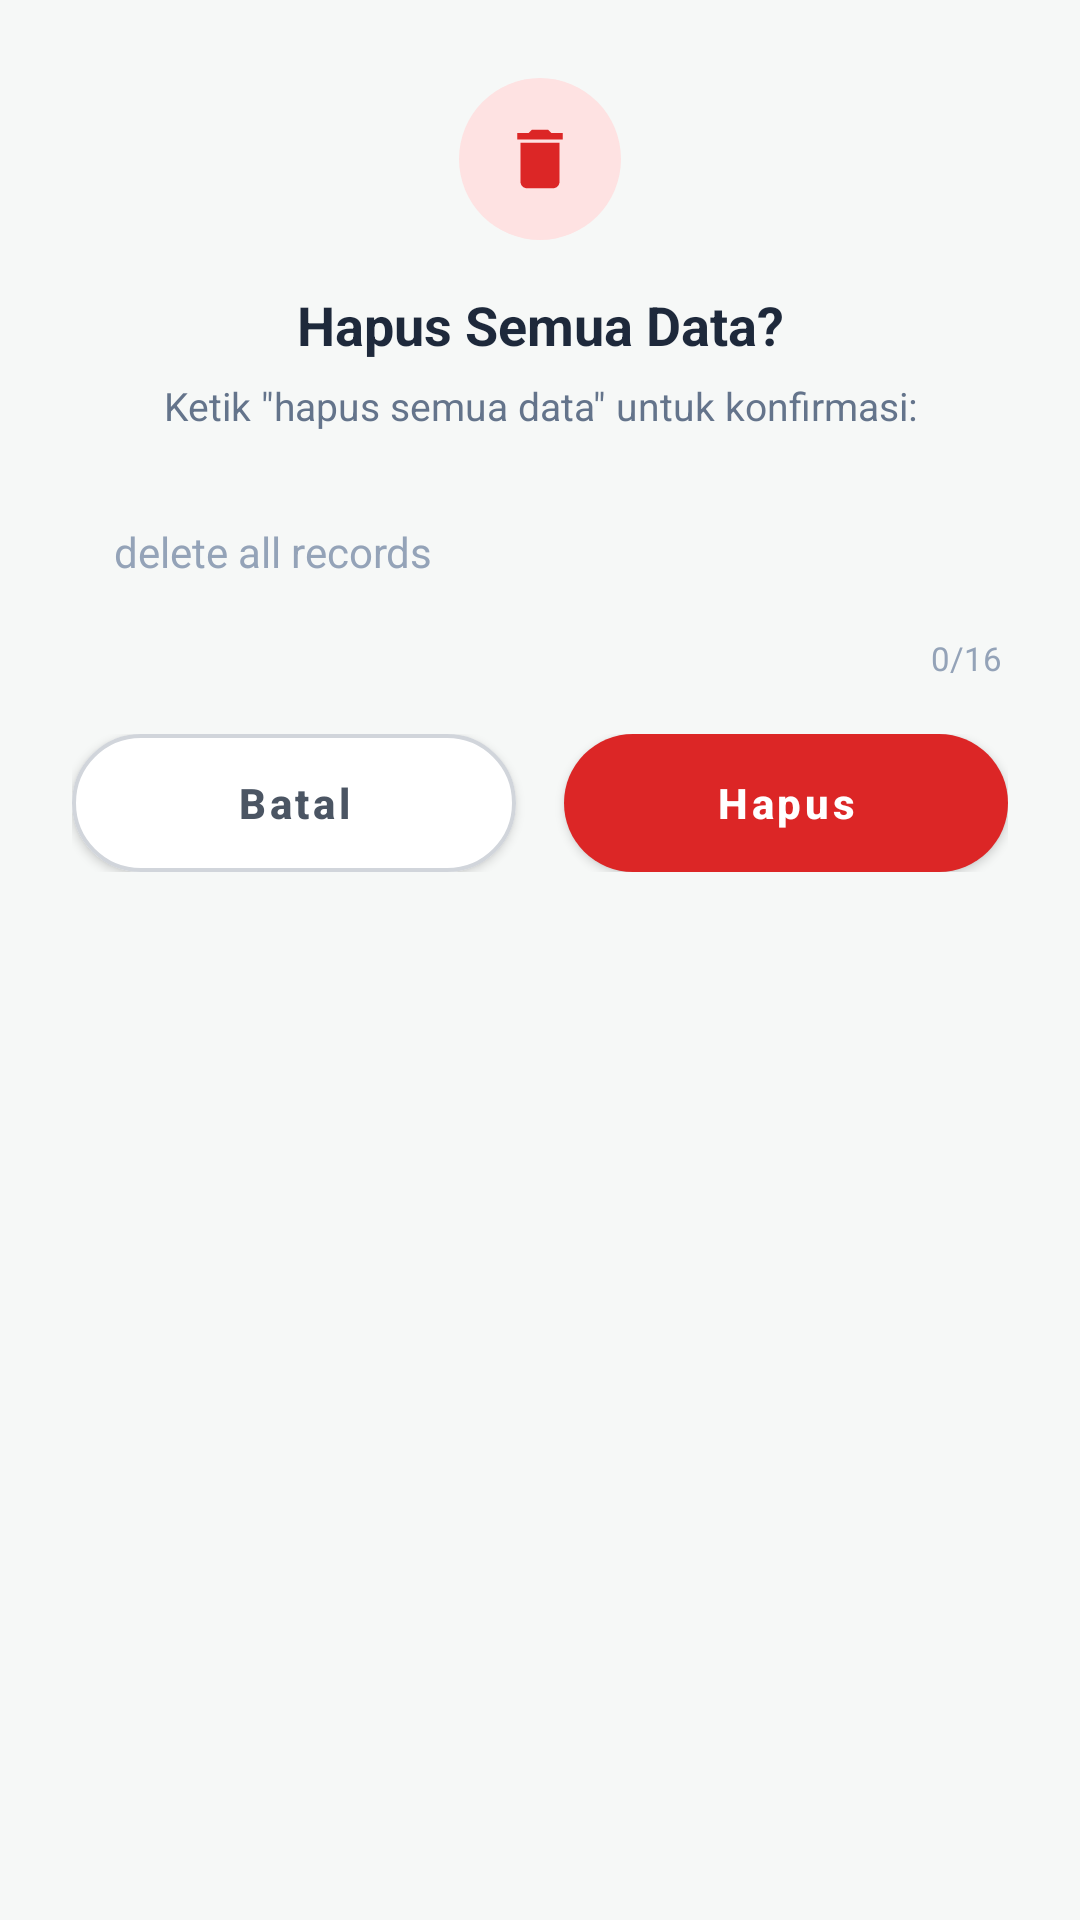

Icons on this 1080px×1920px Android screen, each with its box as (x1, y1, x2, y2):
delete: (517, 129, 563, 189)
